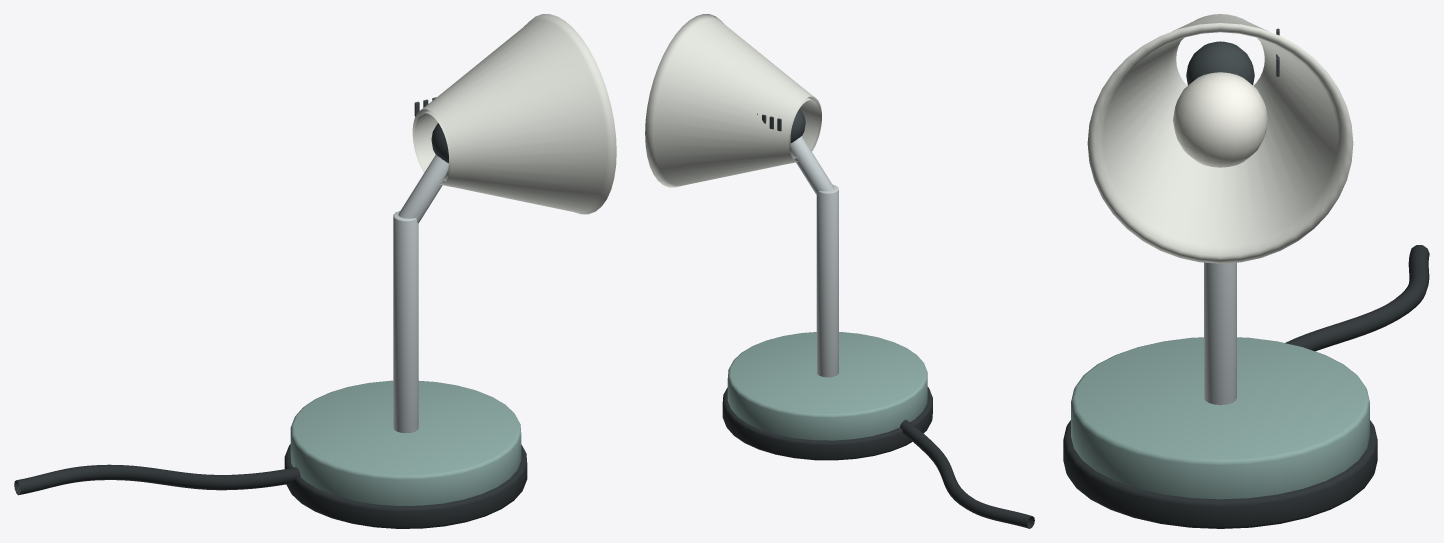
Rendered from pondweed-lamp.glb.
3 renders of one model, left to right at view 1: azimuth 30°, elevation 25°; view 2: azimuth 150°, elevation 25°; view 3: azimuth 270°, elevation 25°, orthographic. The views are drawn at different scales.
Visible parts, largest first — view 1: Open metal reflector, Weighted enamel lamp base, Rubber anti slip foot, Chrome lamp upright, Lamp flex, Adjustable lamp neck; view 2: Open metal reflector, Weighted enamel lamp base, Rubber anti slip foot, Chrome lamp upright, Lamp flex, Adjustable lamp neck; view 3: Open metal reflector, Weighted enamel lamp base, Rubber anti slip foot, Frosted light bulb, Chrome lamp upright, Lamp flex, Lamp swivel.
Part boxes in pixels (x1,y1,x2,y2): Open metal reflector: [412, 14, 616, 214]; Weighted enamel lamp base: [290, 380, 521, 505]; Rubber anti slip foot: [284, 444, 527, 528]; Chrome lamp upright: [393, 211, 418, 432]; Lamp flex: [14, 464, 300, 495]; Adjustable lamp neck: [398, 155, 448, 223]; Open metal reflector: [645, 14, 821, 187]; Weighted enamel lamp base: [727, 332, 927, 440]; Rubber anti slip foot: [722, 387, 932, 460]; Chrome lamp upright: [816, 184, 838, 377]; Lamp flex: [900, 419, 1034, 528]; Adjustable lamp neck: [790, 136, 834, 195]; Open metal reflector: [1087, 14, 1353, 263]; Weighted enamel lamp base: [1071, 337, 1369, 499]; Rubber anti slip foot: [1063, 420, 1377, 528]; Frosted light bulb: [1173, 72, 1267, 167]; Chrome lamp upright: [1204, 262, 1236, 404]; Lamp flex: [1285, 245, 1429, 351]; Lamp swivel: [1186, 41, 1254, 84].
Bounding box in the file's own units: 0.6359 × 0.54 × 0.331.
